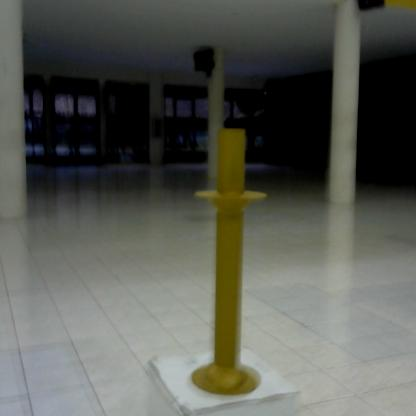pole: (190, 119, 270, 404)
